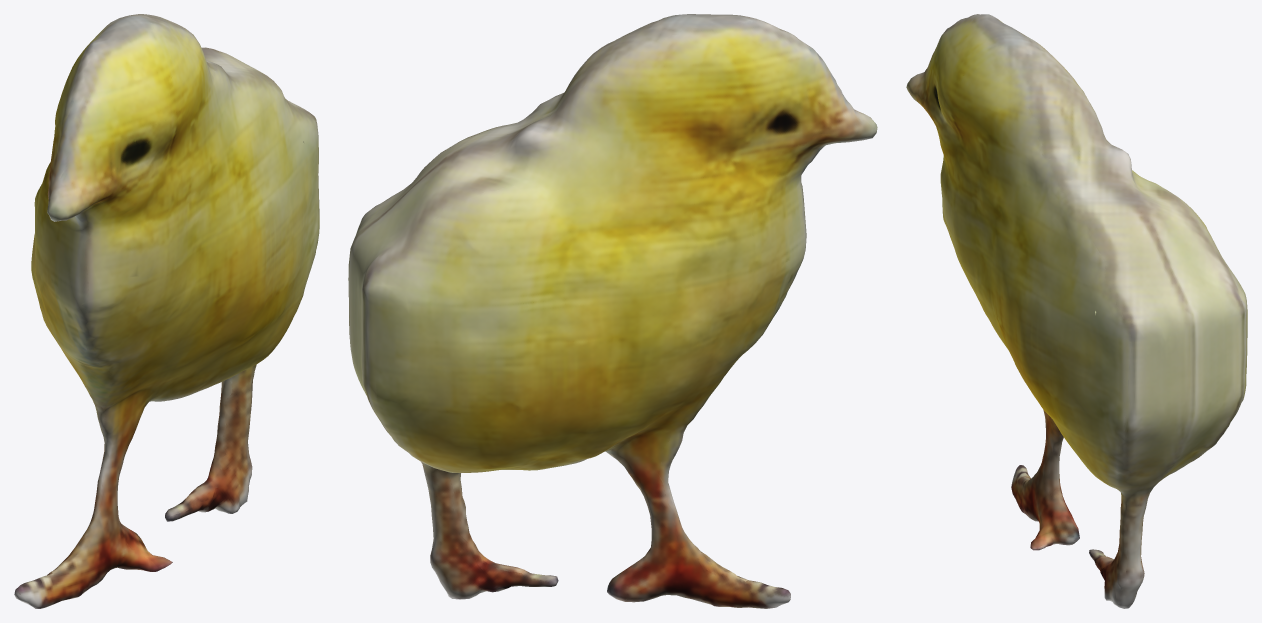
The model's file is bebe.glb.
3 views of the same model, side by side, from view 1: azimuth 30°, elevation 25°; view 2: azimuth 150°, elevation 25°; view 3: azimuth 270°, elevation 25° (orthographic). The views are drawn at different scales.
Visible parts, largest first — view 1: mesh; view 2: mesh; view 3: mesh.
Part boxes in pixels (x1,y1,x2,y2): mesh: (14, 14, 319, 608); mesh: (348, 14, 877, 608); mesh: (906, 14, 1247, 608).
Size of the model in its own units: 1.25 by 1.76 by 1.08.
1 material, 1 textured.
